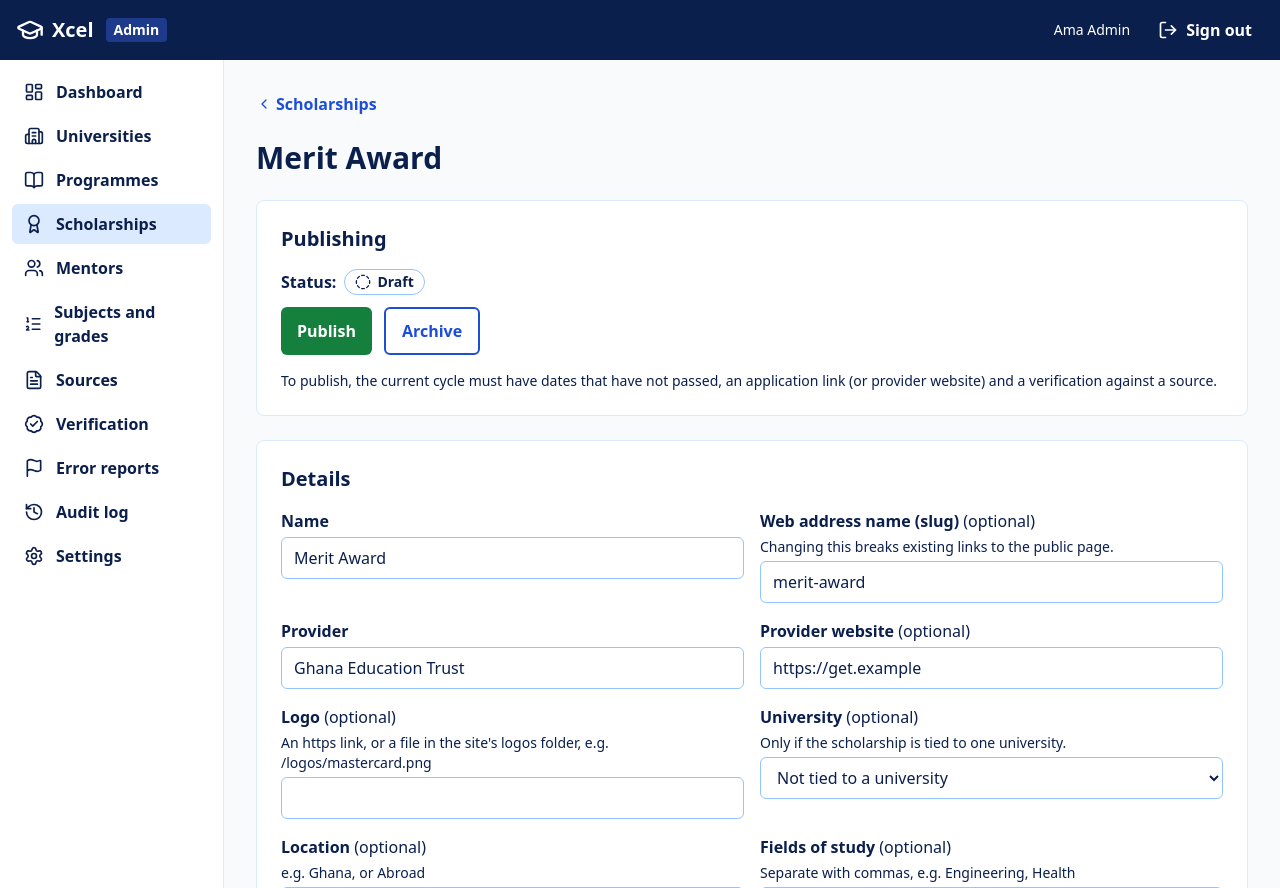
Test: scholarship admin › confirms before publishing and shows why the server refused
Click the button "Publish".
click(326, 331)  # box [281,307,372,355]
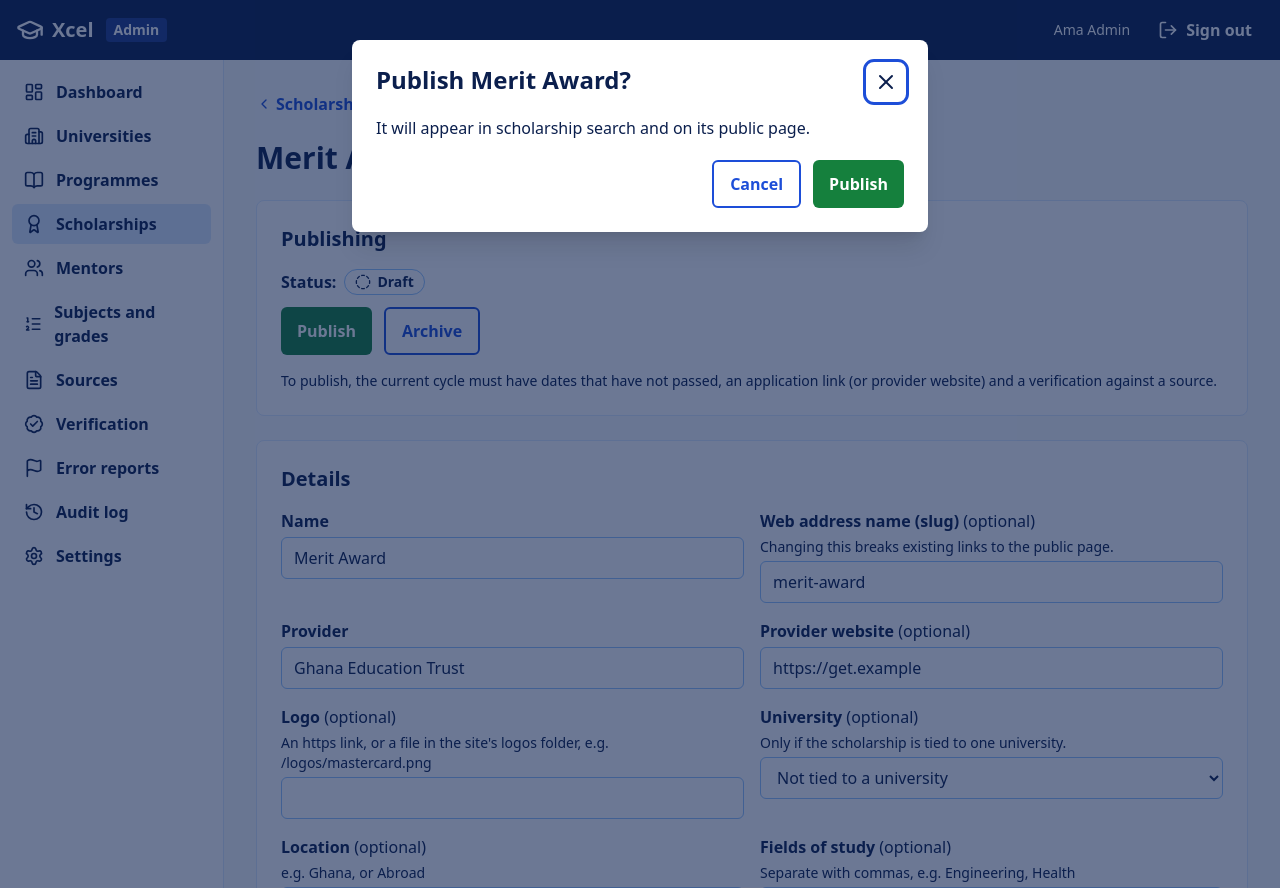
Click the button "Publish".
click(859, 184)  # box [813,160,904,208]
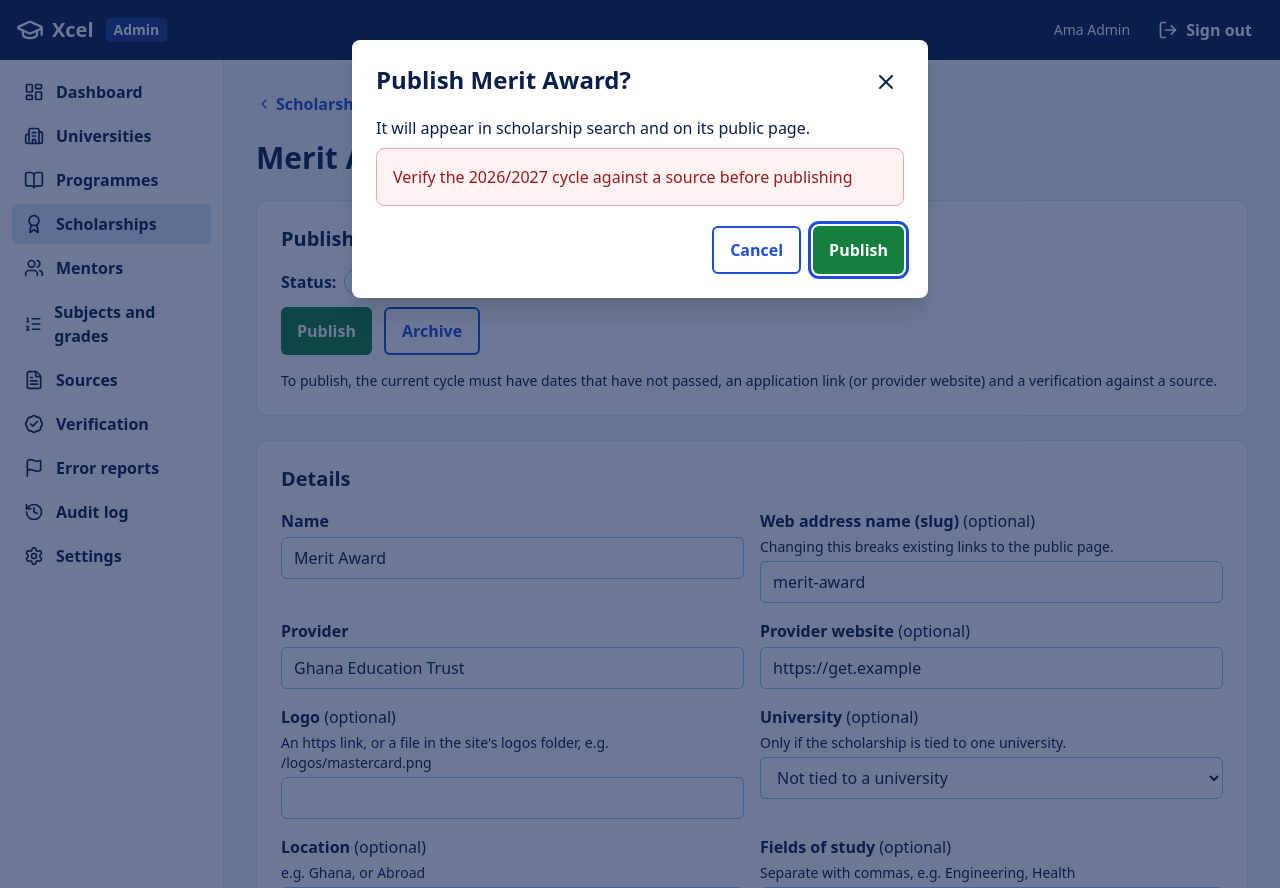
expect the message shows "Verify the 2026/2027 cycle": met, box [393,166,853,188]
